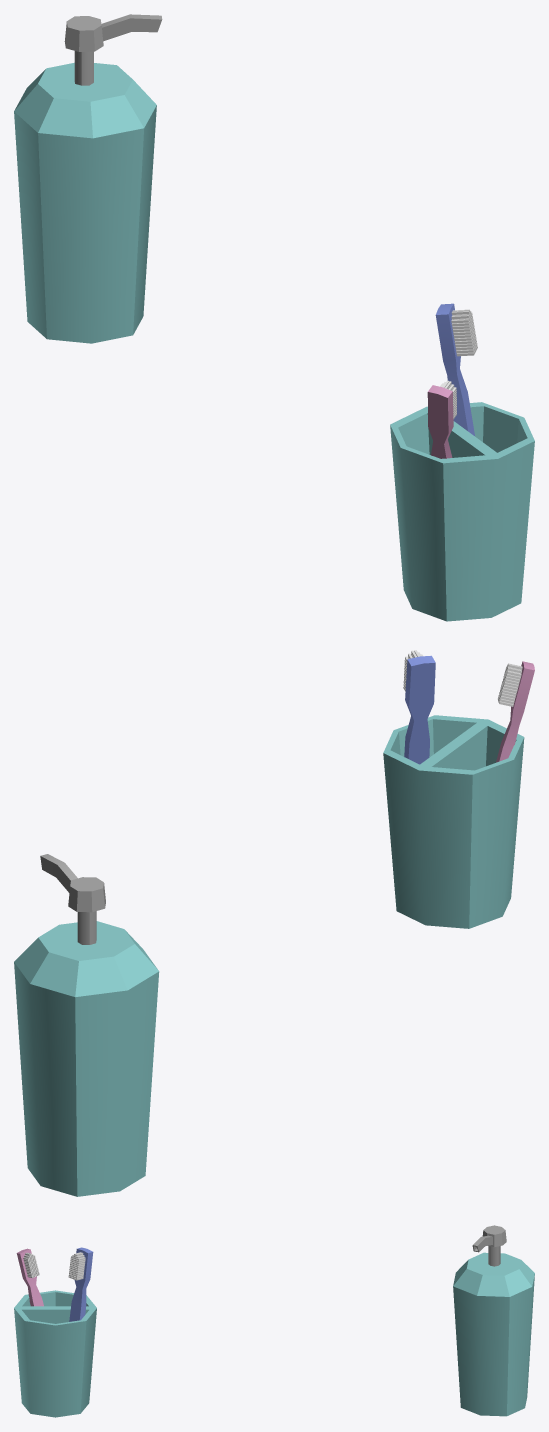
Rendered from sink_acc.fbx.
The picture shows the model from 3 angles, top to bottom: view 1: azimuth 30°, elevation 25°; view 2: azimuth 150°, elevation 25°; view 3: azimuth 270°, elevation 25°; orthographic projection. The views are drawn at different scales.
Visible parts, largest first — view 1: soapBase, toothbrushCup, soapHandle, toothbrush1, toothbrush2; view 2: soapBase, toothbrushCup, toothbrush1, soapHandle, toothbrush2; view 3: soapBase, toothbrushCup, toothbrush1, toothbrush2, soapHandle.
Boxes of the visible parts, x1,y1,x2,y2 form: soapBase: (14,62,156,343); toothbrushCup: (390,402,534,621); soapHandle: (64,14,162,85); toothbrush1: (435,303,477,435); toothbrush2: (427,380,456,458); soapBase: (14,921,159,1196); toothbrushCup: (383,715,524,928); toothbrush1: (403,650,435,764); soapHandle: (40,854,105,944); toothbrush2: (496,661,534,762); soapBase: (453,1252,534,1416); toothbrushCup: (14,1290,96,1417); toothbrush1: (68,1247,93,1321); toothbrush2: (16,1248,43,1306); soapHandle: (472,1225,506,1266).
Bounding box in the file's own units: 0.0828 × 0.1935 × 0.5194.
